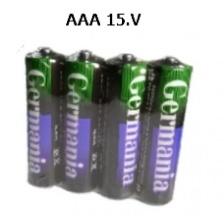battery: (130, 54, 195, 209), (92, 50, 152, 203), (57, 48, 107, 196), (22, 43, 68, 190)
